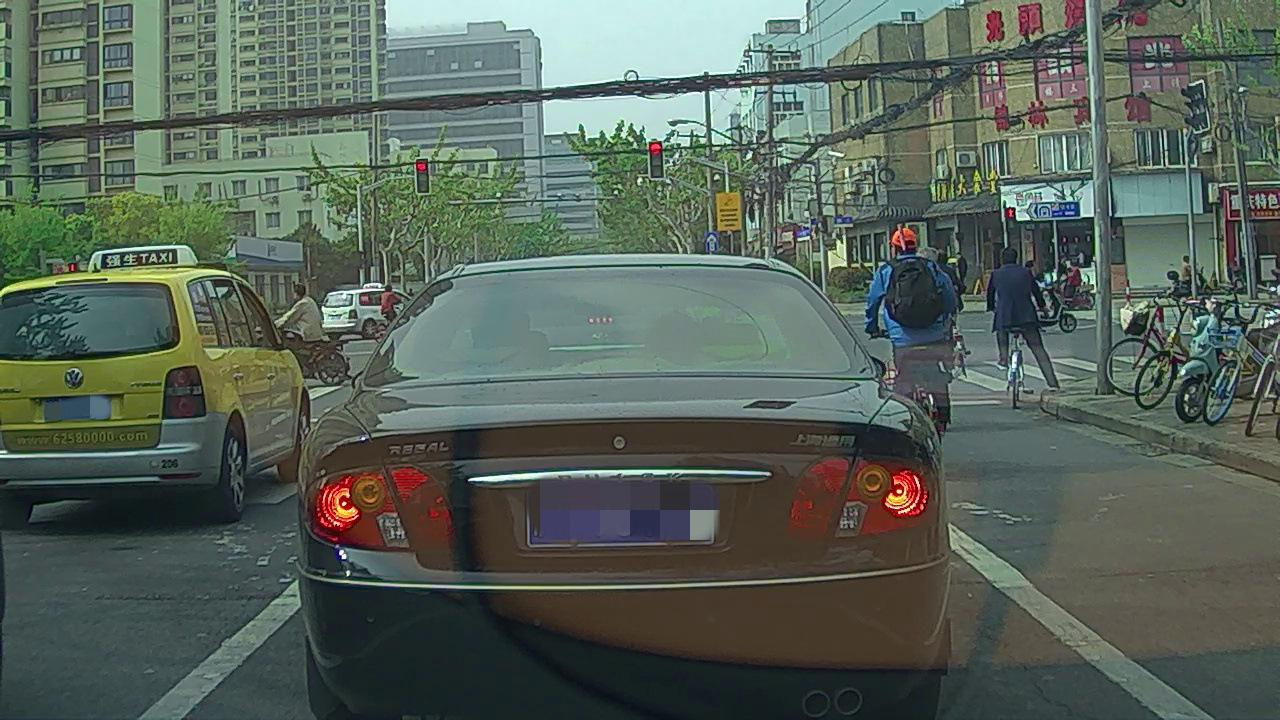traffic_light: (649, 140, 665, 179), (416, 157, 430, 194)
